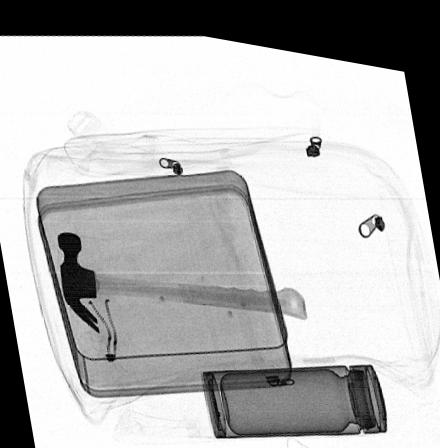Hammer: (57, 228, 308, 331)
